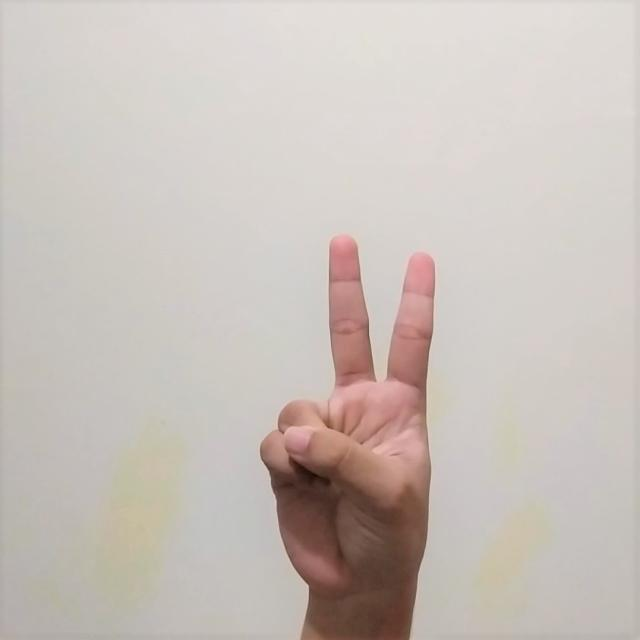V: (242, 209, 460, 601)
